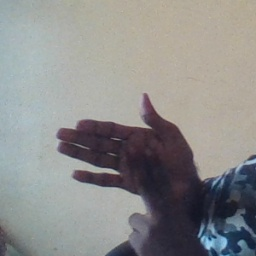N: (52, 88, 196, 238)
